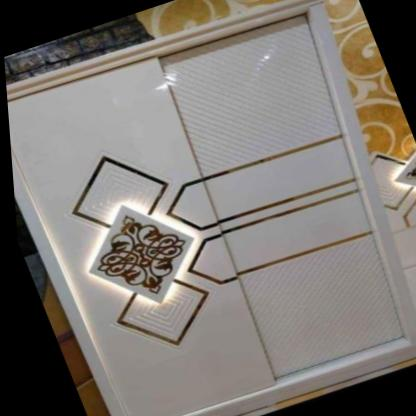Closet: (5, 0, 416, 416)
